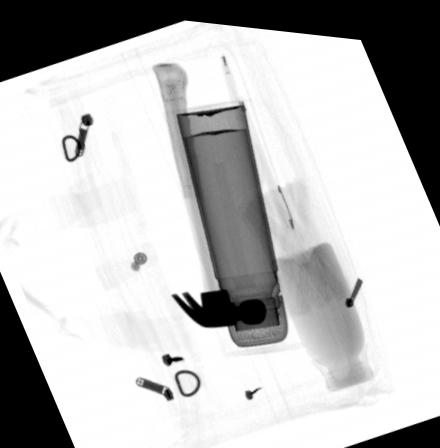Hammer: (150, 57, 267, 323)
